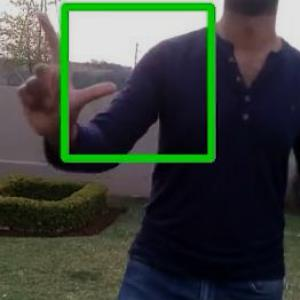land_hand: (9, 6, 117, 145)
